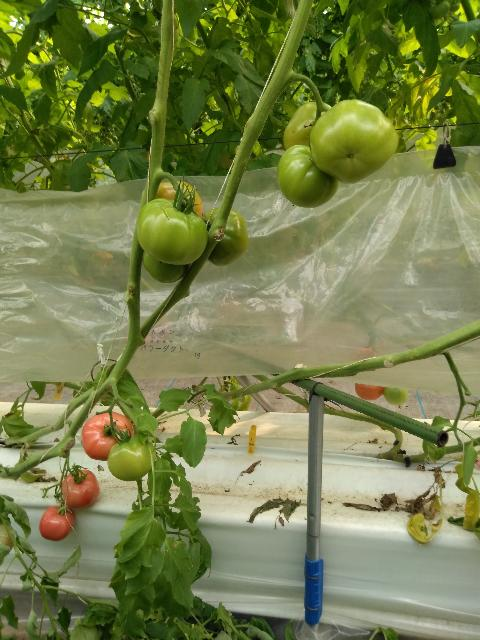b_fully_ripened: (39, 505, 75, 541)
b_green: (309, 99, 399, 185), (136, 198, 209, 265), (276, 145, 340, 208), (202, 207, 248, 267), (283, 101, 331, 151), (108, 435, 157, 482), (142, 249, 192, 284), (383, 387, 409, 406)
b_half_ripened: (81, 411, 134, 461), (155, 181, 203, 219), (61, 469, 100, 509), (355, 383, 386, 400)
